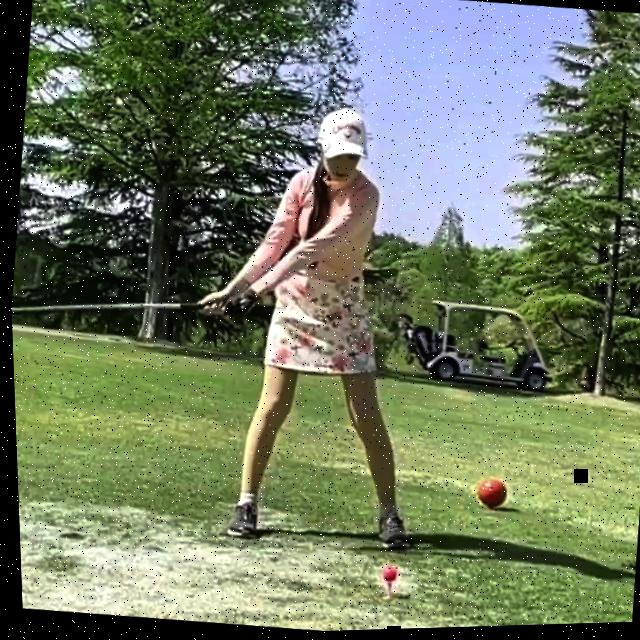GolfBall: (376, 566, 393, 583)
